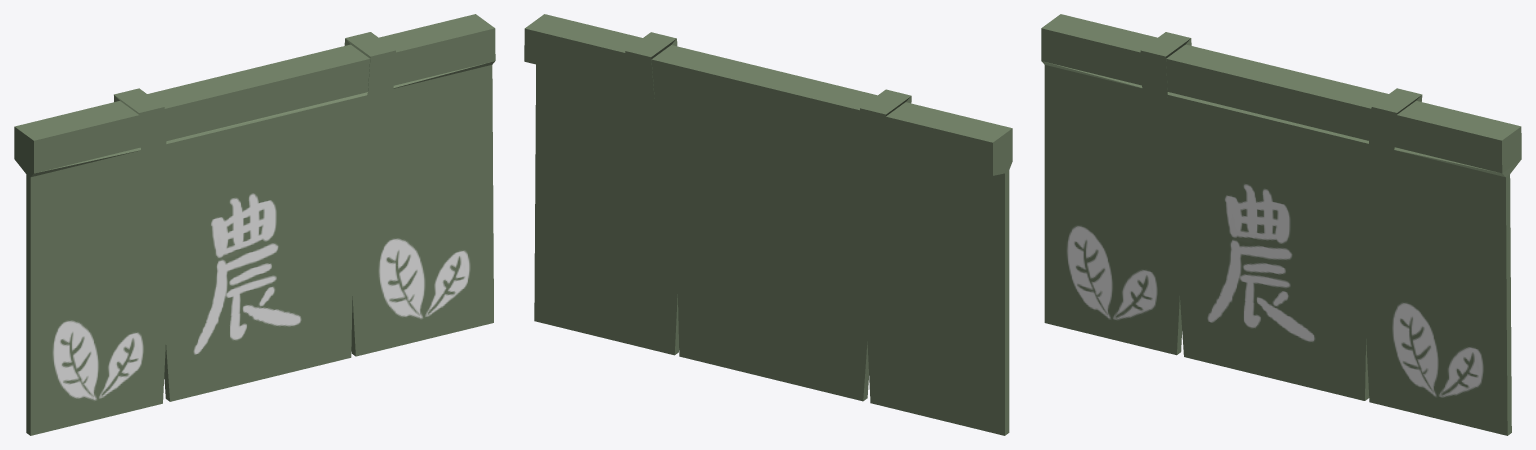
File: Noren_Green_Farm.fbx
3 renders of one model, left to right at view 1: azimuth 30°, elevation 25°; view 2: azimuth 150°, elevation 25°; view 3: azimuth 330°, elevation 25°, orthographic.
Visible parts, largest first — view 1: Noren_Green_Farm; view 2: Noren_Green_Farm; view 3: Noren_Green_Farm.
Part boxes in pixels (left/top/right/bottom): Noren_Green_Farm: left=14, top=14, right=495, bottom=435; Noren_Green_Farm: left=524, top=14, right=1012, bottom=435; Noren_Green_Farm: left=1041, top=14, right=1521, bottom=435.
Size of the model in its own units: 1 by 0.6267 by 0.0953.
1 material, 1 textured.
